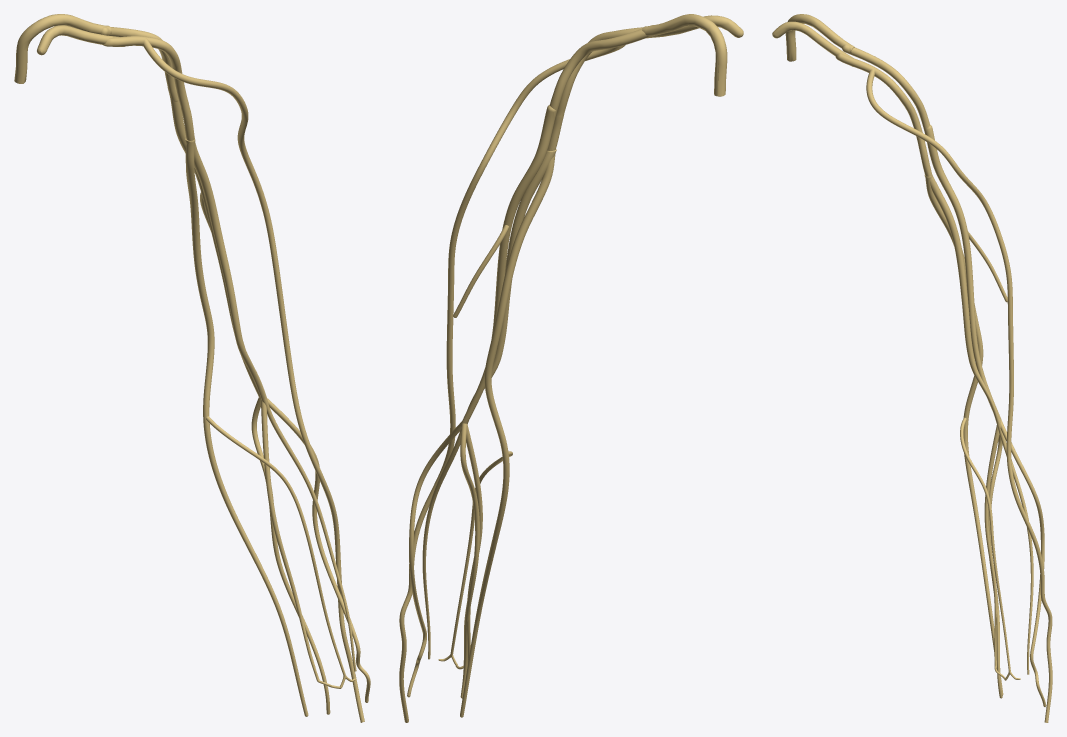
Rendered from upper-left.glb.
3 views of the same model, side by side, from view 1: azimuth 30°, elevation 25°; view 2: azimuth 150°, elevation 25°; view 3: azimuth 330°, elevation 25° (orthographic). The views are drawn at different scales.
Parts seen in each view (by area): view 1: bp3d_FMA13326_FJ2220, bp3d_FMA22910_FJ2218, bp3d_FMA22936_FJ2313, bp3d_FMA4694_FJ3479, bp3d_FMA22952_FJ2260, bp3d_FMA13331_FJ2217, bp3d_FMA22734_FJ2242, bp3d_FMA22969_FJ2234, bp3d_FMA22798_FJ2258, bp3d_FMA22949_FJ2244, bp3d_FMA22692_FJ2219, bp3d_FMA4763_FJ3486 (+1 smaller); view 2: bp3d_FMA13326_FJ2220, bp3d_FMA22910_FJ2218, bp3d_FMA22692_FJ2219, bp3d_FMA4694_FJ3479, bp3d_FMA22734_FJ2242, bp3d_FMA22936_FJ2313, bp3d_FMA22798_FJ2258, bp3d_FMA22656_FJ2216, bp3d_FMA13331_FJ2217, bp3d_FMA22949_FJ2244, bp3d_FMA22952_FJ2260, bp3d_FMA22969_FJ2234 (+2 smaller); view 3: bp3d_FMA13326_FJ2220, bp3d_FMA22910_FJ2218, bp3d_FMA22692_FJ2219, bp3d_FMA22936_FJ2313, bp3d_FMA13331_FJ2217, bp3d_FMA22734_FJ2242, bp3d_FMA22656_FJ2216, bp3d_FMA22952_FJ2260, bp3d_FMA22969_FJ2234, bp3d_FMA4694_FJ3479, bp3d_FMA22949_FJ2244, bp3d_FMA22798_FJ2258 (+1 smaller).
Part boxes in pixels (left/top/right/bottom): bp3d_FMA13326_FJ2220: left=143, top=38, right=364, bottom=722; bp3d_FMA22910_FJ2218: left=185, top=139, right=308, bottom=716; bp3d_FMA22936_FJ2313: left=185, top=138, right=267, bottom=401; bp3d_FMA4694_FJ3479: left=14, top=14, right=111, bottom=83; bp3d_FMA22952_FJ2260: left=261, top=400, right=340, bottom=688; bp3d_FMA13331_FJ2217: left=103, top=36, right=194, bottom=140; bp3d_FMA22734_FJ2242: left=267, top=398, right=370, bottom=702; bp3d_FMA22969_FJ2234: left=206, top=416, right=355, bottom=688; bp3d_FMA22798_FJ2258: left=251, top=397, right=330, bottom=714; bp3d_FMA22949_FJ2244: left=263, top=398, right=356, bottom=671; bp3d_FMA22692_FJ2219: left=167, top=87, right=260, bottom=398; bp3d_FMA4763_FJ3486: left=37, top=25, right=125, bottom=55; bp3d_FMA13326_FJ2220: left=399, top=45, right=625, bottom=722; bp3d_FMA22910_FJ2218: left=460, top=154, right=555, bottom=717; bp3d_FMA22692_FJ2219: left=461, top=105, right=556, bottom=423; bp3d_FMA4694_FJ3479: left=642, top=14, right=727, bottom=96; bp3d_FMA22734_FJ2242: left=407, top=421, right=461, bottom=697; bp3d_FMA22936_FJ2313: left=467, top=149, right=556, bottom=424; bp3d_FMA22798_FJ2258: left=460, top=423, right=479, bottom=698; bp3d_FMA22656_FJ2216: left=550, top=25, right=653, bottom=116; bp3d_FMA13331_FJ2217: left=547, top=27, right=642, bottom=150; bp3d_FMA22949_FJ2244: left=422, top=429, right=461, bottom=659; bp3d_FMA22952_FJ2260: left=455, top=425, right=482, bottom=669; bp3d_FMA22969_FJ2234: left=438, top=451, right=512, bottom=665; bp3d_FMA13326_FJ2220: left=866, top=69, right=1052, bottom=722; bp3d_FMA22910_FJ2218: left=925, top=176, right=1003, bottom=695; bp3d_FMA22692_FJ2219: left=926, top=124, right=1001, bottom=420; bp3d_FMA22936_FJ2313: left=924, top=174, right=1000, bottom=424; bp3d_FMA13331_FJ2217: left=835, top=53, right=932, bottom=178; bp3d_FMA22734_FJ2242: left=1000, top=420, right=1046, bottom=706; bp3d_FMA22656_FJ2216: left=842, top=44, right=929, bottom=134; bp3d_FMA22952_FJ2260: left=984, top=421, right=1005, bottom=680; bp3d_FMA22969_FJ2234: left=960, top=417, right=1020, bottom=680; bp3d_FMA4694_FJ3479: left=785, top=14, right=854, bottom=61; bp3d_FMA22949_FJ2244: left=996, top=418, right=1033, bottom=674; bp3d_FMA22798_FJ2258: left=988, top=435, right=1002, bottom=698.
Size of the model in its own units: 0.2618 by 0.582 by 0.0824.
